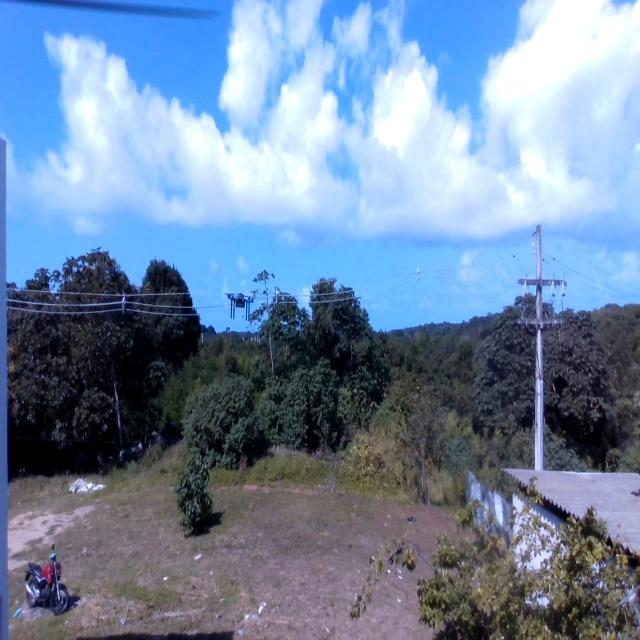-uav-: (220, 276, 261, 331)
